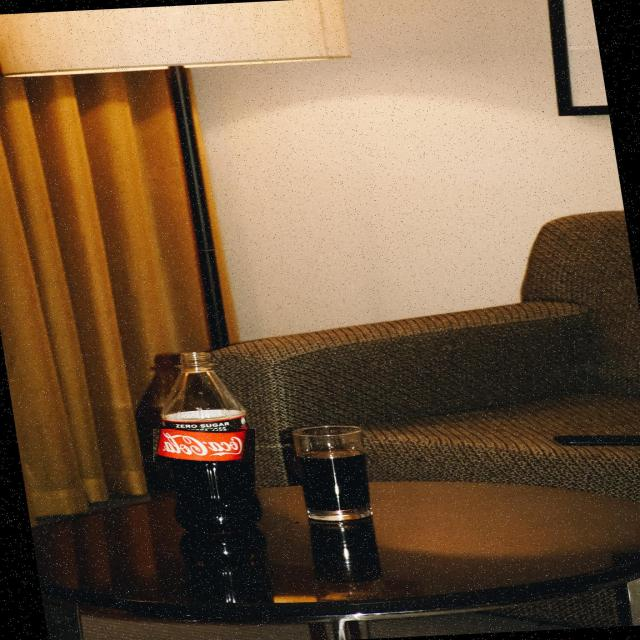coca-cola: (154, 429, 255, 462)
